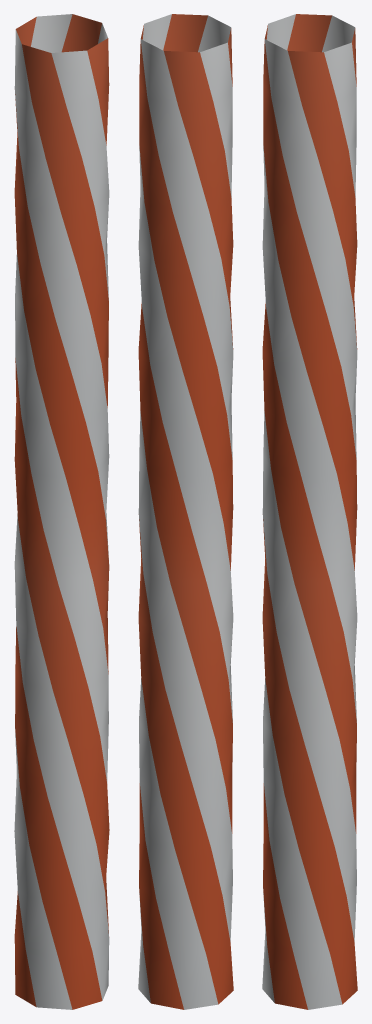
Rendered from Shugar_cane_001.glb.
3 views of the same model, side by side, from view 1: azimuth 30°, elevation 25°; view 2: azimuth 150°, elevation 25°; view 3: azimuth 330°, elevation 25° (orthographic).
Parts seen in each view (by area): view 1: Shugar_cane_001; view 2: Shugar_cane_001; view 3: Shugar_cane_001.
Boxes of the visible parts, bbox=[...] form: Shugar_cane_001: bbox=[14, 14, 109, 1009]; Shugar_cane_001: bbox=[138, 14, 233, 1009]; Shugar_cane_001: bbox=[262, 14, 357, 1009].
Bounding box in the file's own units: 0.3119 × 3.47 × 0.3119.
1 material, 1 textured.
